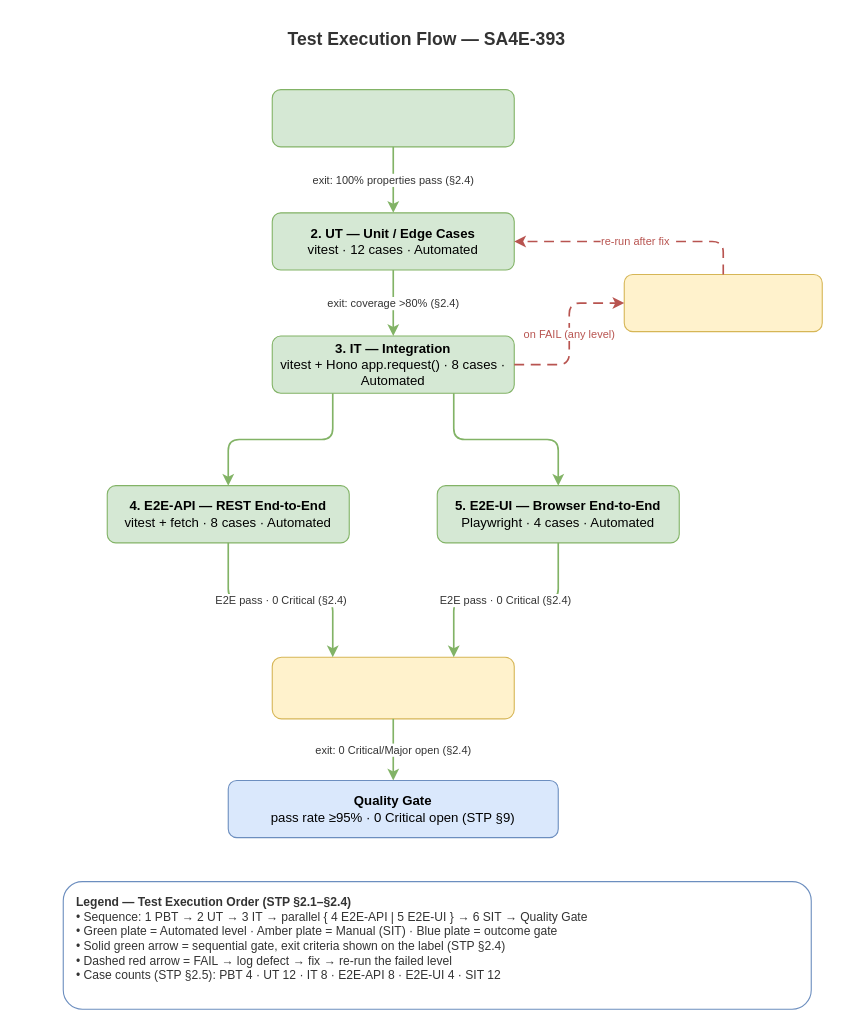
Image size: 851x1029. Some labels were removed from this diagram. Here are the shapes that lost their labels. From the top down, the box of each, then its label:
(271, 89, 514, 147): 1. PBT — Property-Based fast-check · 4 cases · Automated
(623, 273, 822, 332): Defect Fix Loop log defect → fix → re-run level
(271, 656, 514, 719): 6. SIT — Manual Exploratory Browser · 12 cases · Manual
